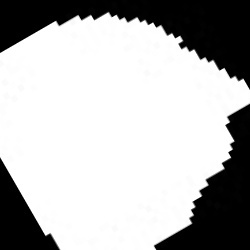spot: (2, 13, 246, 247)
